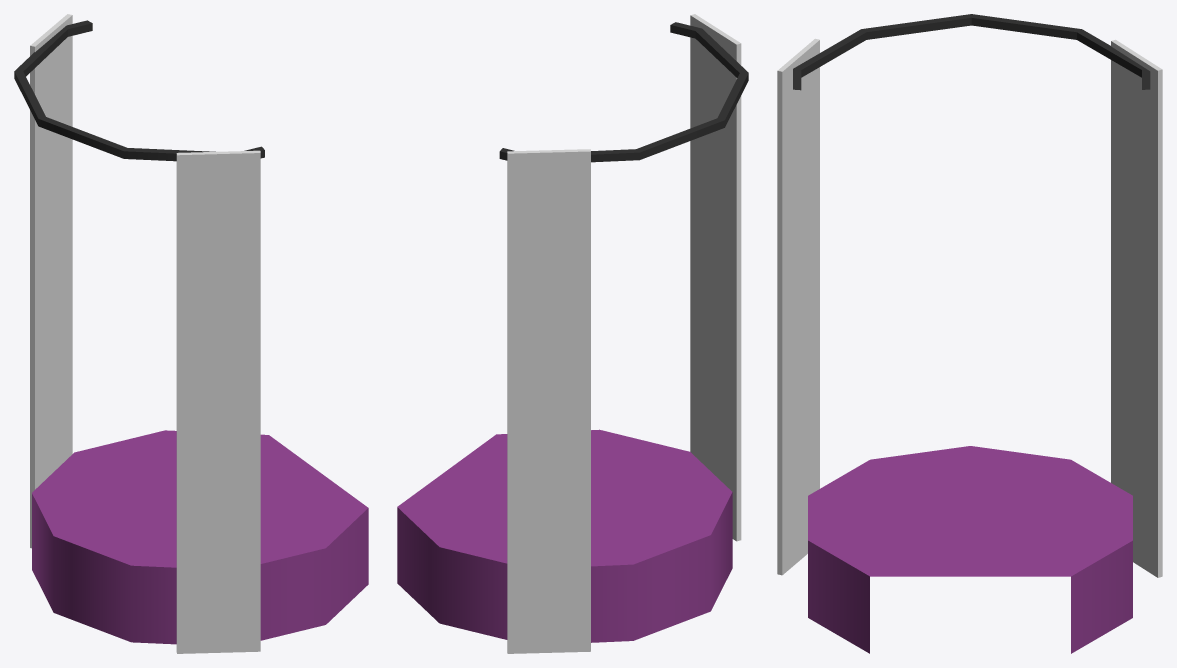
Rendered from alcoves salon reception.FBX.
3 views of the same model, side by side, from view 1: azimuth 30°, elevation 25°; view 2: azimuth 150°, elevation 25°; view 3: azimuth 270°, elevation 25° (orthographic).
Visible parts, largest first — view 1: rideuax alcoves, Object044; view 2: rideuax alcoves, Object044; view 3: Object044, rideuax alcoves.
Boxes of the visible parts, <box> form: rideuax alcoves: <box>30,14,260,653</box>; Object044: <box>14,20,368,644</box>; rideuax alcoves: <box>507,14,741,653</box>; Object044: <box>397,22,748,642</box>; Object044: <box>793,14,1150,653</box>; rideuax alcoves: <box>777,38,1162,577</box>.
Bounding box in the file's own units: 115 × 197 × 135.
